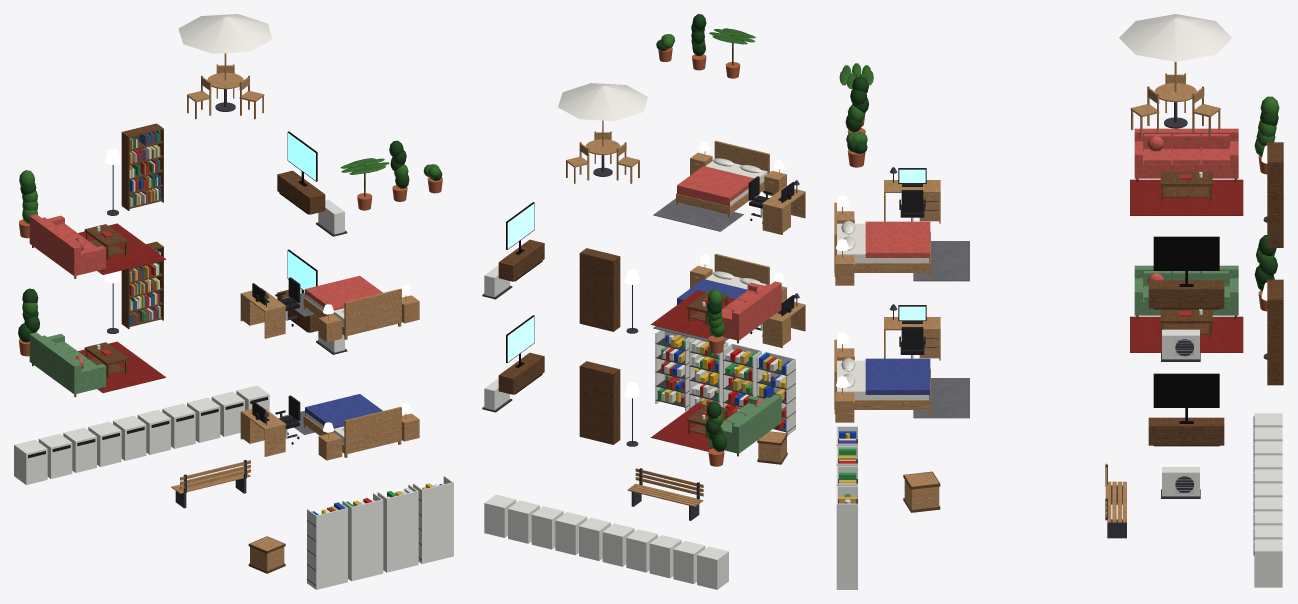
File: i_laundromat_flats.gltf
3 views of the same model, side by side, from view 1: azimuth 30°, elevation 25°; view 2: azimuth 150°, elevation 25°; view 3: azimuth 270°, elevation 25° (orthographic). The views are drawn at different scales.
Parts seen in each view (by area): view 1: I_laundromat_flats; view 2: I_laundromat_flats; view 3: I_laundromat_flats.
Boxes of the visible parts, x1,y1,x2,y2 form: I_laundromat_flats: [14, 14, 453, 589]; I_laundromat_flats: [482, 14, 805, 589]; I_laundromat_flats: [834, 14, 1283, 589].
Bounding box in the file's own units: 8.06 × 12.25 × 9.51.
Materials: 35 (10 with a texture image).
